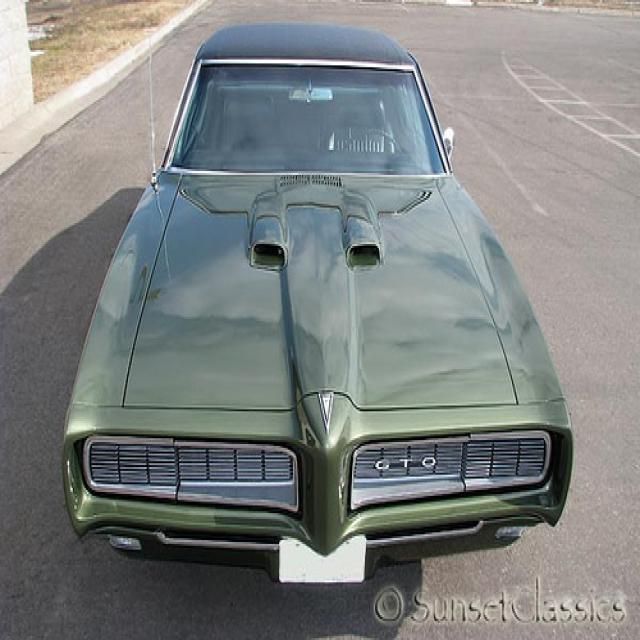Car: (64, 19, 575, 587)
